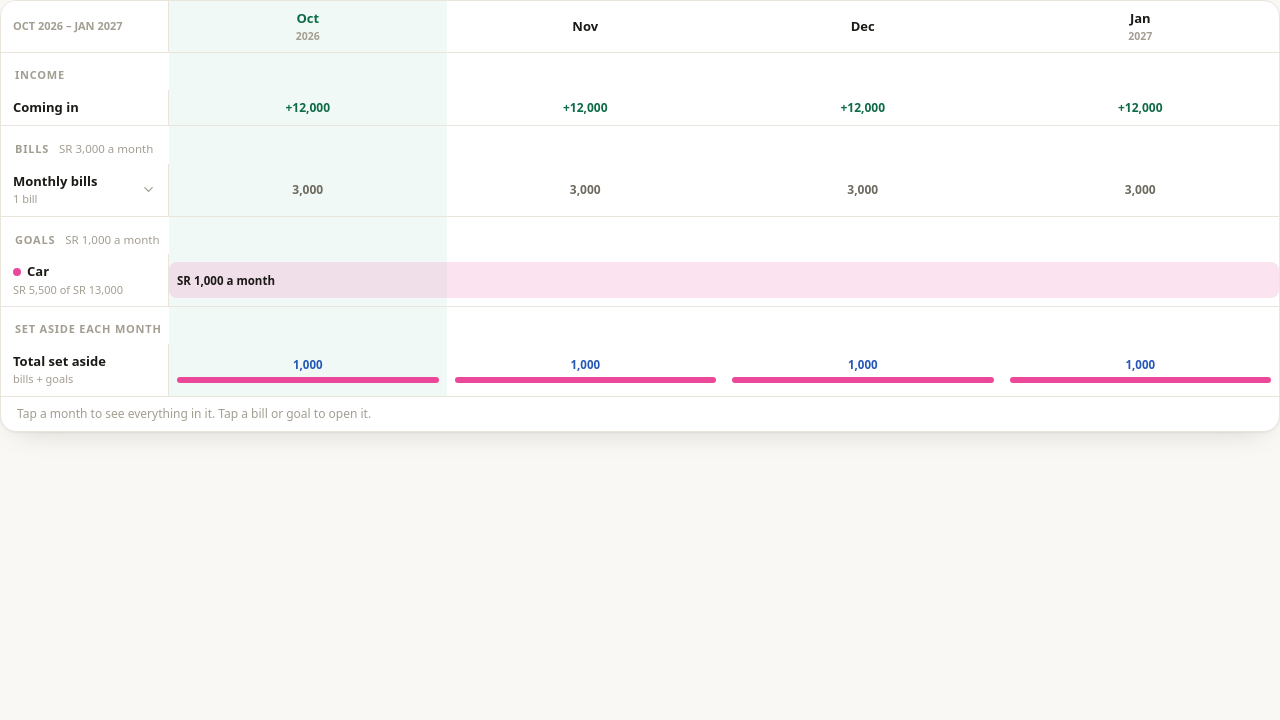
Test: year lanes › opens a month's popover from its set-aside cell
Step 1. Click the button named "Dec 2026: SR 1,000 set aside" → click(863, 370), box [724, 344, 1002, 396]
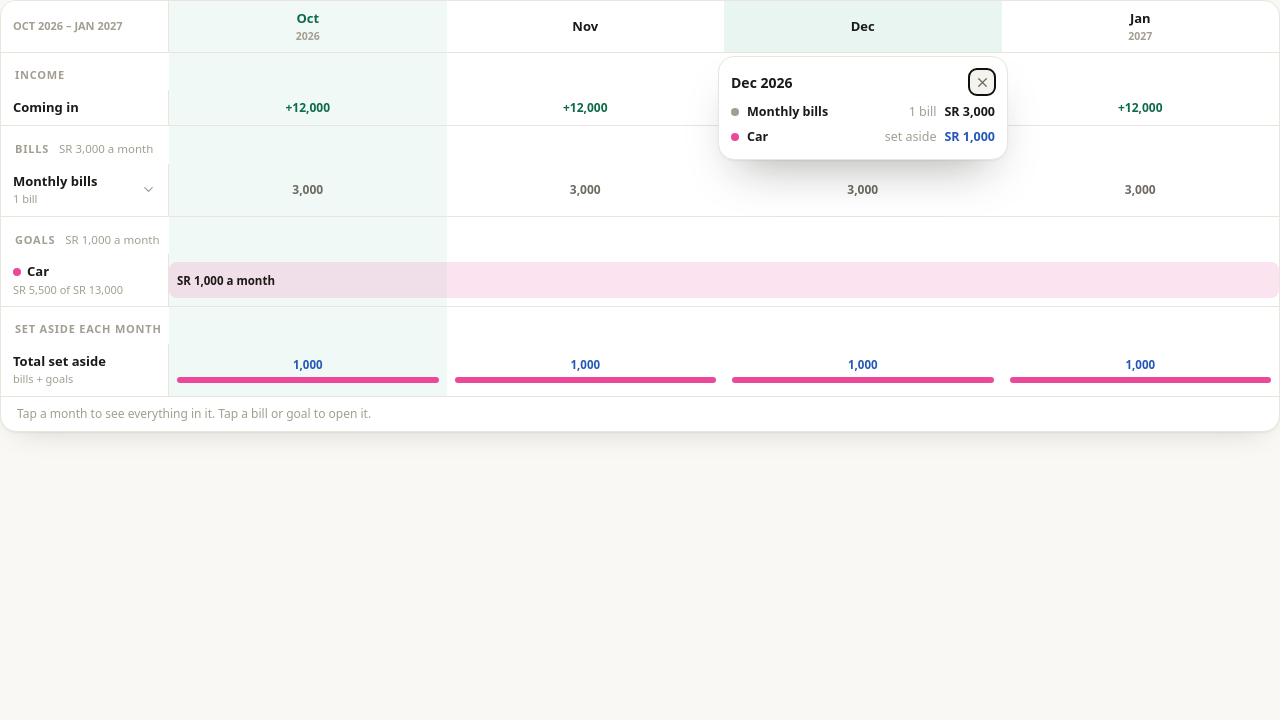
Expected: the text "Dec 2026" is shown, [731, 72, 792, 92]
